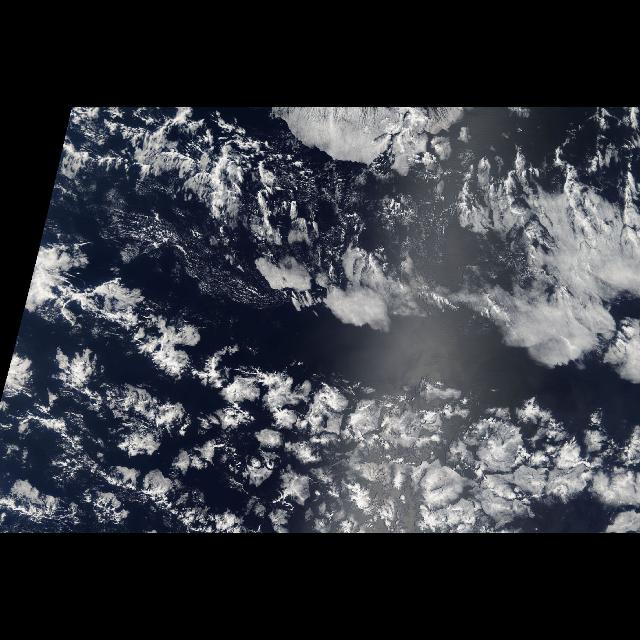Flower: (3, 138, 631, 532)
